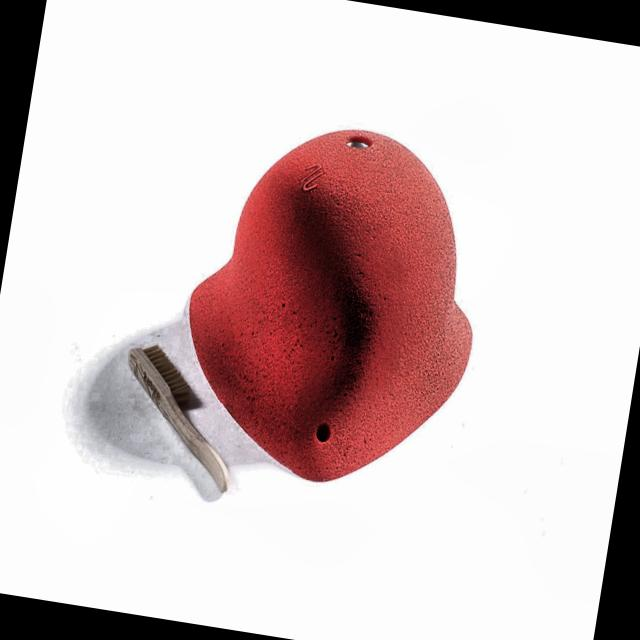Hold: (161, 110, 498, 502)
